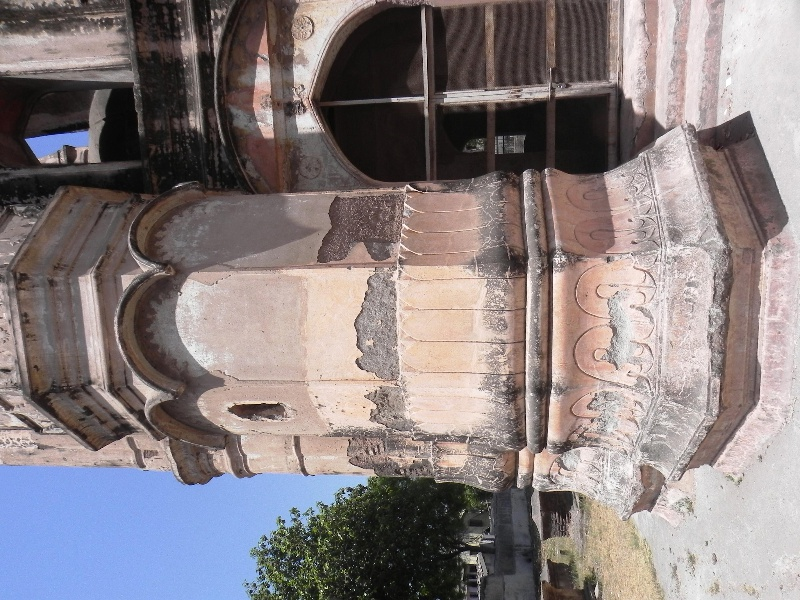Spalling: (345, 269, 408, 380), (314, 194, 410, 262), (336, 431, 443, 478), (363, 382, 425, 426), (605, 287, 635, 368)
